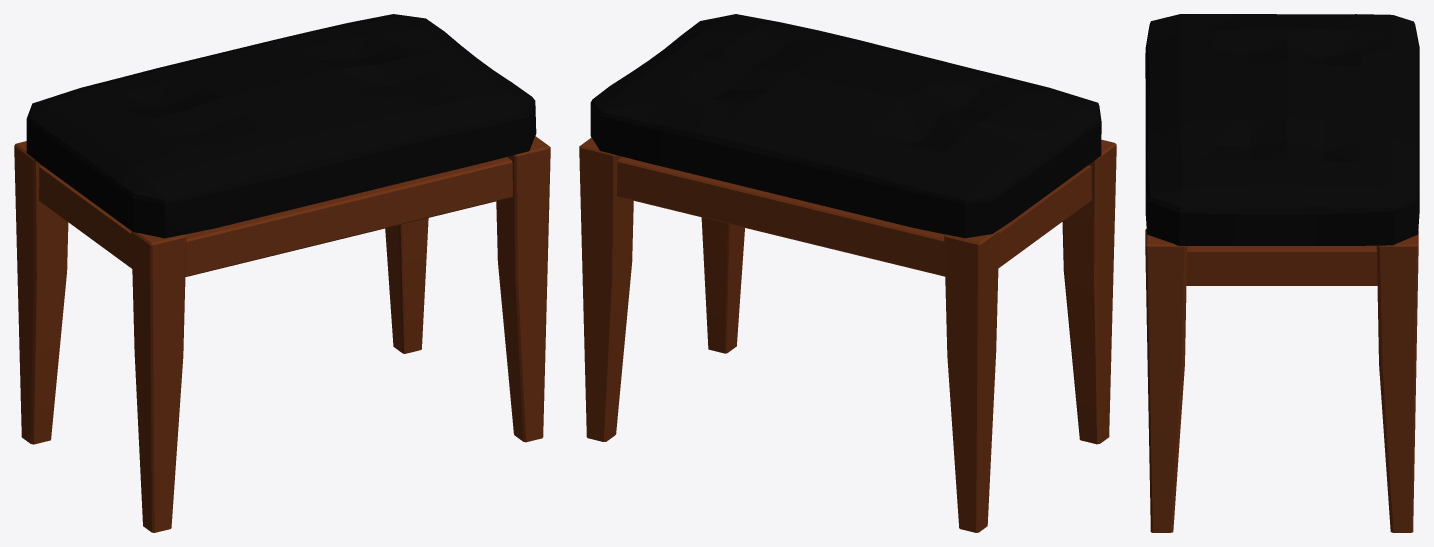
File: Piano stool.fbx
3 views of the same model, side by side, from view 1: azimuth 30°, elevation 25°; view 2: azimuth 150°, elevation 25°; view 3: azimuth 270°, elevation 25° (orthographic).
Parts seen in each view (by area): view 1: props_149; view 2: props_149; view 3: props_149.
Boxes of the visible parts, bbox=[...] form: props_149: bbox=[14, 14, 550, 532]; props_149: bbox=[579, 14, 1116, 532]; props_149: bbox=[1145, 14, 1419, 532].
Size of the model in its own units: 16.21 by 13.54 by 9.62.
